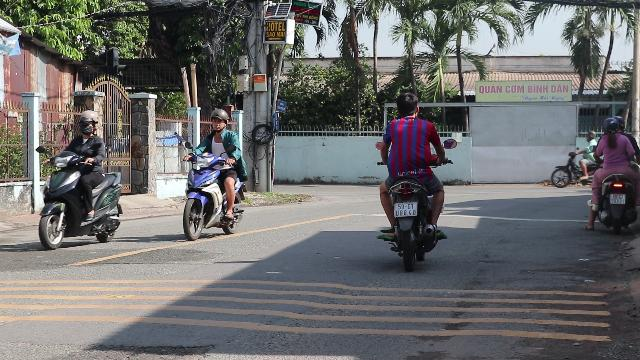helmet: (76, 110, 98, 136), (209, 108, 227, 132), (602, 115, 622, 133)
licenseplate: (395, 202, 417, 217), (610, 194, 626, 204)
motorcyclist: (373, 90, 449, 266), (36, 109, 126, 250), (179, 107, 249, 239), (584, 114, 640, 234)
nohelmet: (394, 92, 420, 118)
